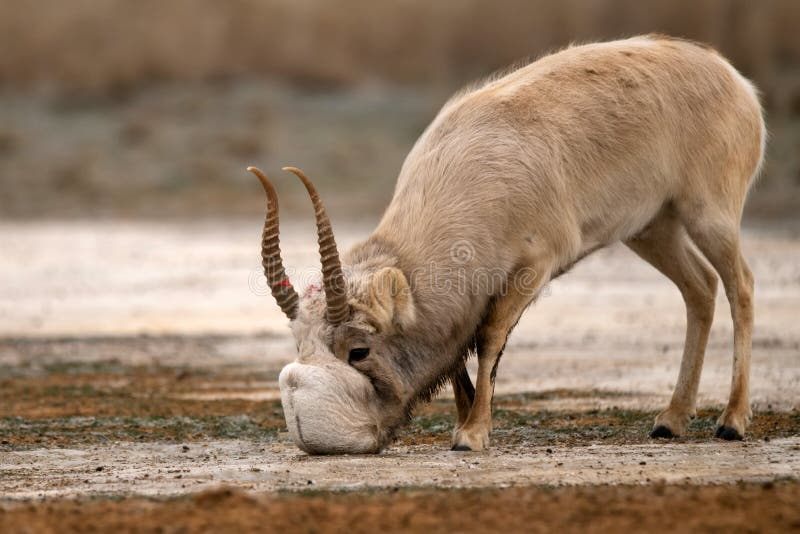saiga: (237, 37, 796, 445)
